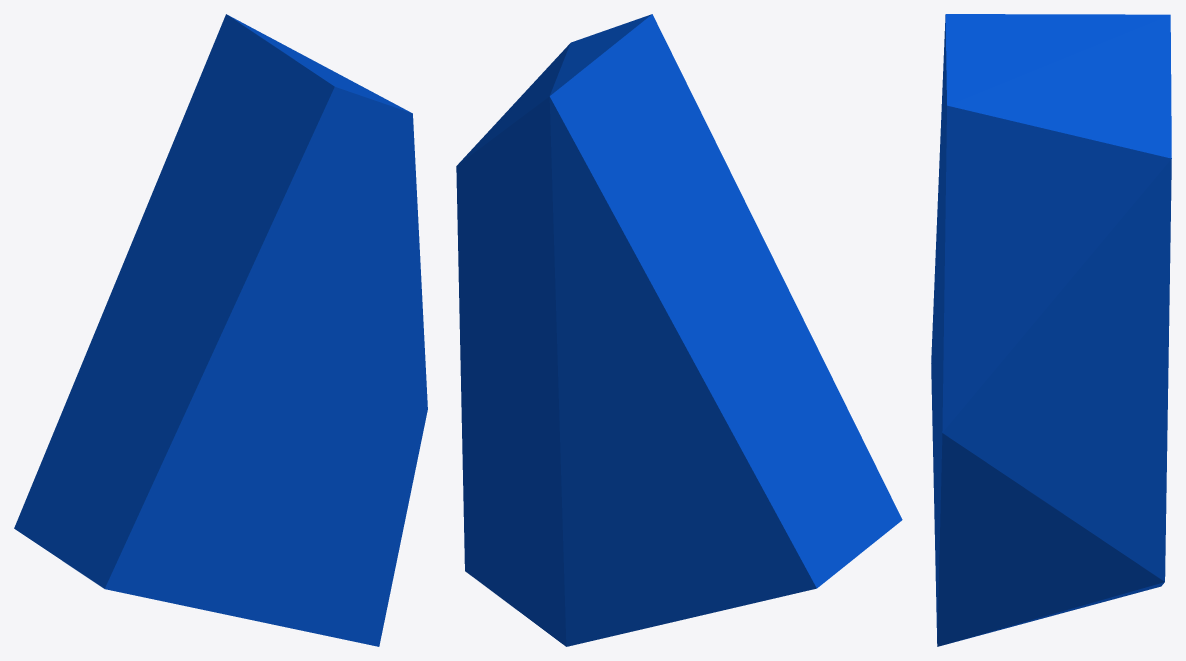
Rendered from camera_convex_piece_000.obj.
The picture shows the model from 3 angles, left to right: view 1: azimuth 30°, elevation 25°; view 2: azimuth 150°, elevation 25°; view 3: azimuth 270°, elevation 25°; orthographic projection. The views are drawn at different scales.
Bounding box in the file's own units: 0.00973 × 0.0159 × 0.00566.
